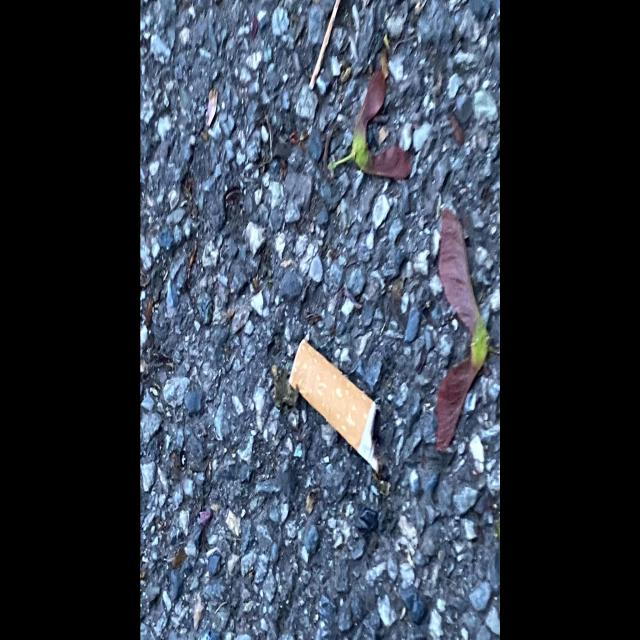other waste: (287, 337, 384, 476)
